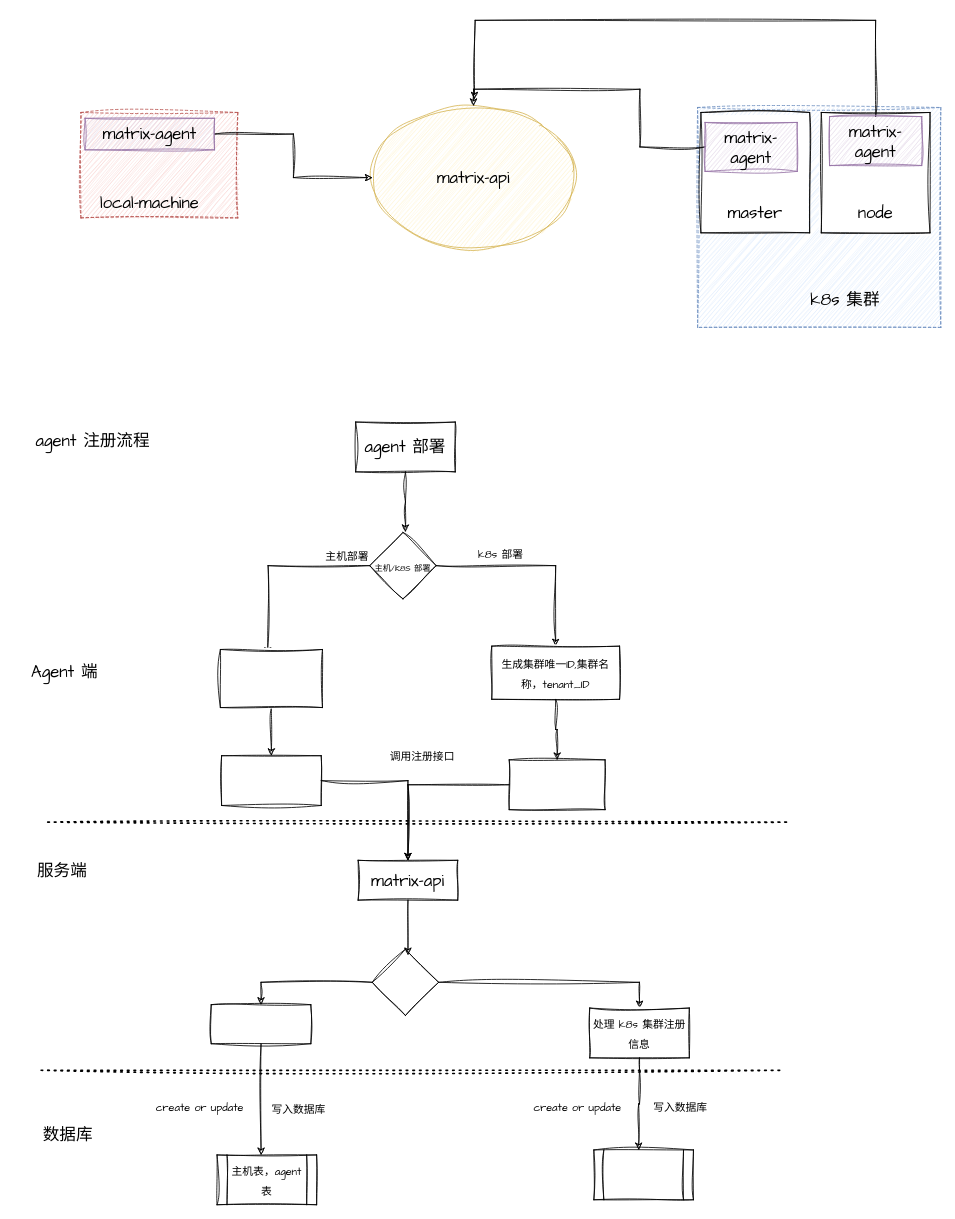
This 955x1219 diagram has some shape labels left out. Each missing label, with the centre of its shape:
"主机/K8s" goes at (x=405, y=982).
"处理主机注册信息" goes at (x=260, y=1024).
"生成 tenant_id 以及 node_code" goes at (x=271, y=678).
"获取主机基础信息" goes at (x=271, y=780).
"获取集群基本信息" goes at (x=556, y=784).
"集群 表，agent 表" goes at (x=643, y=1174).
